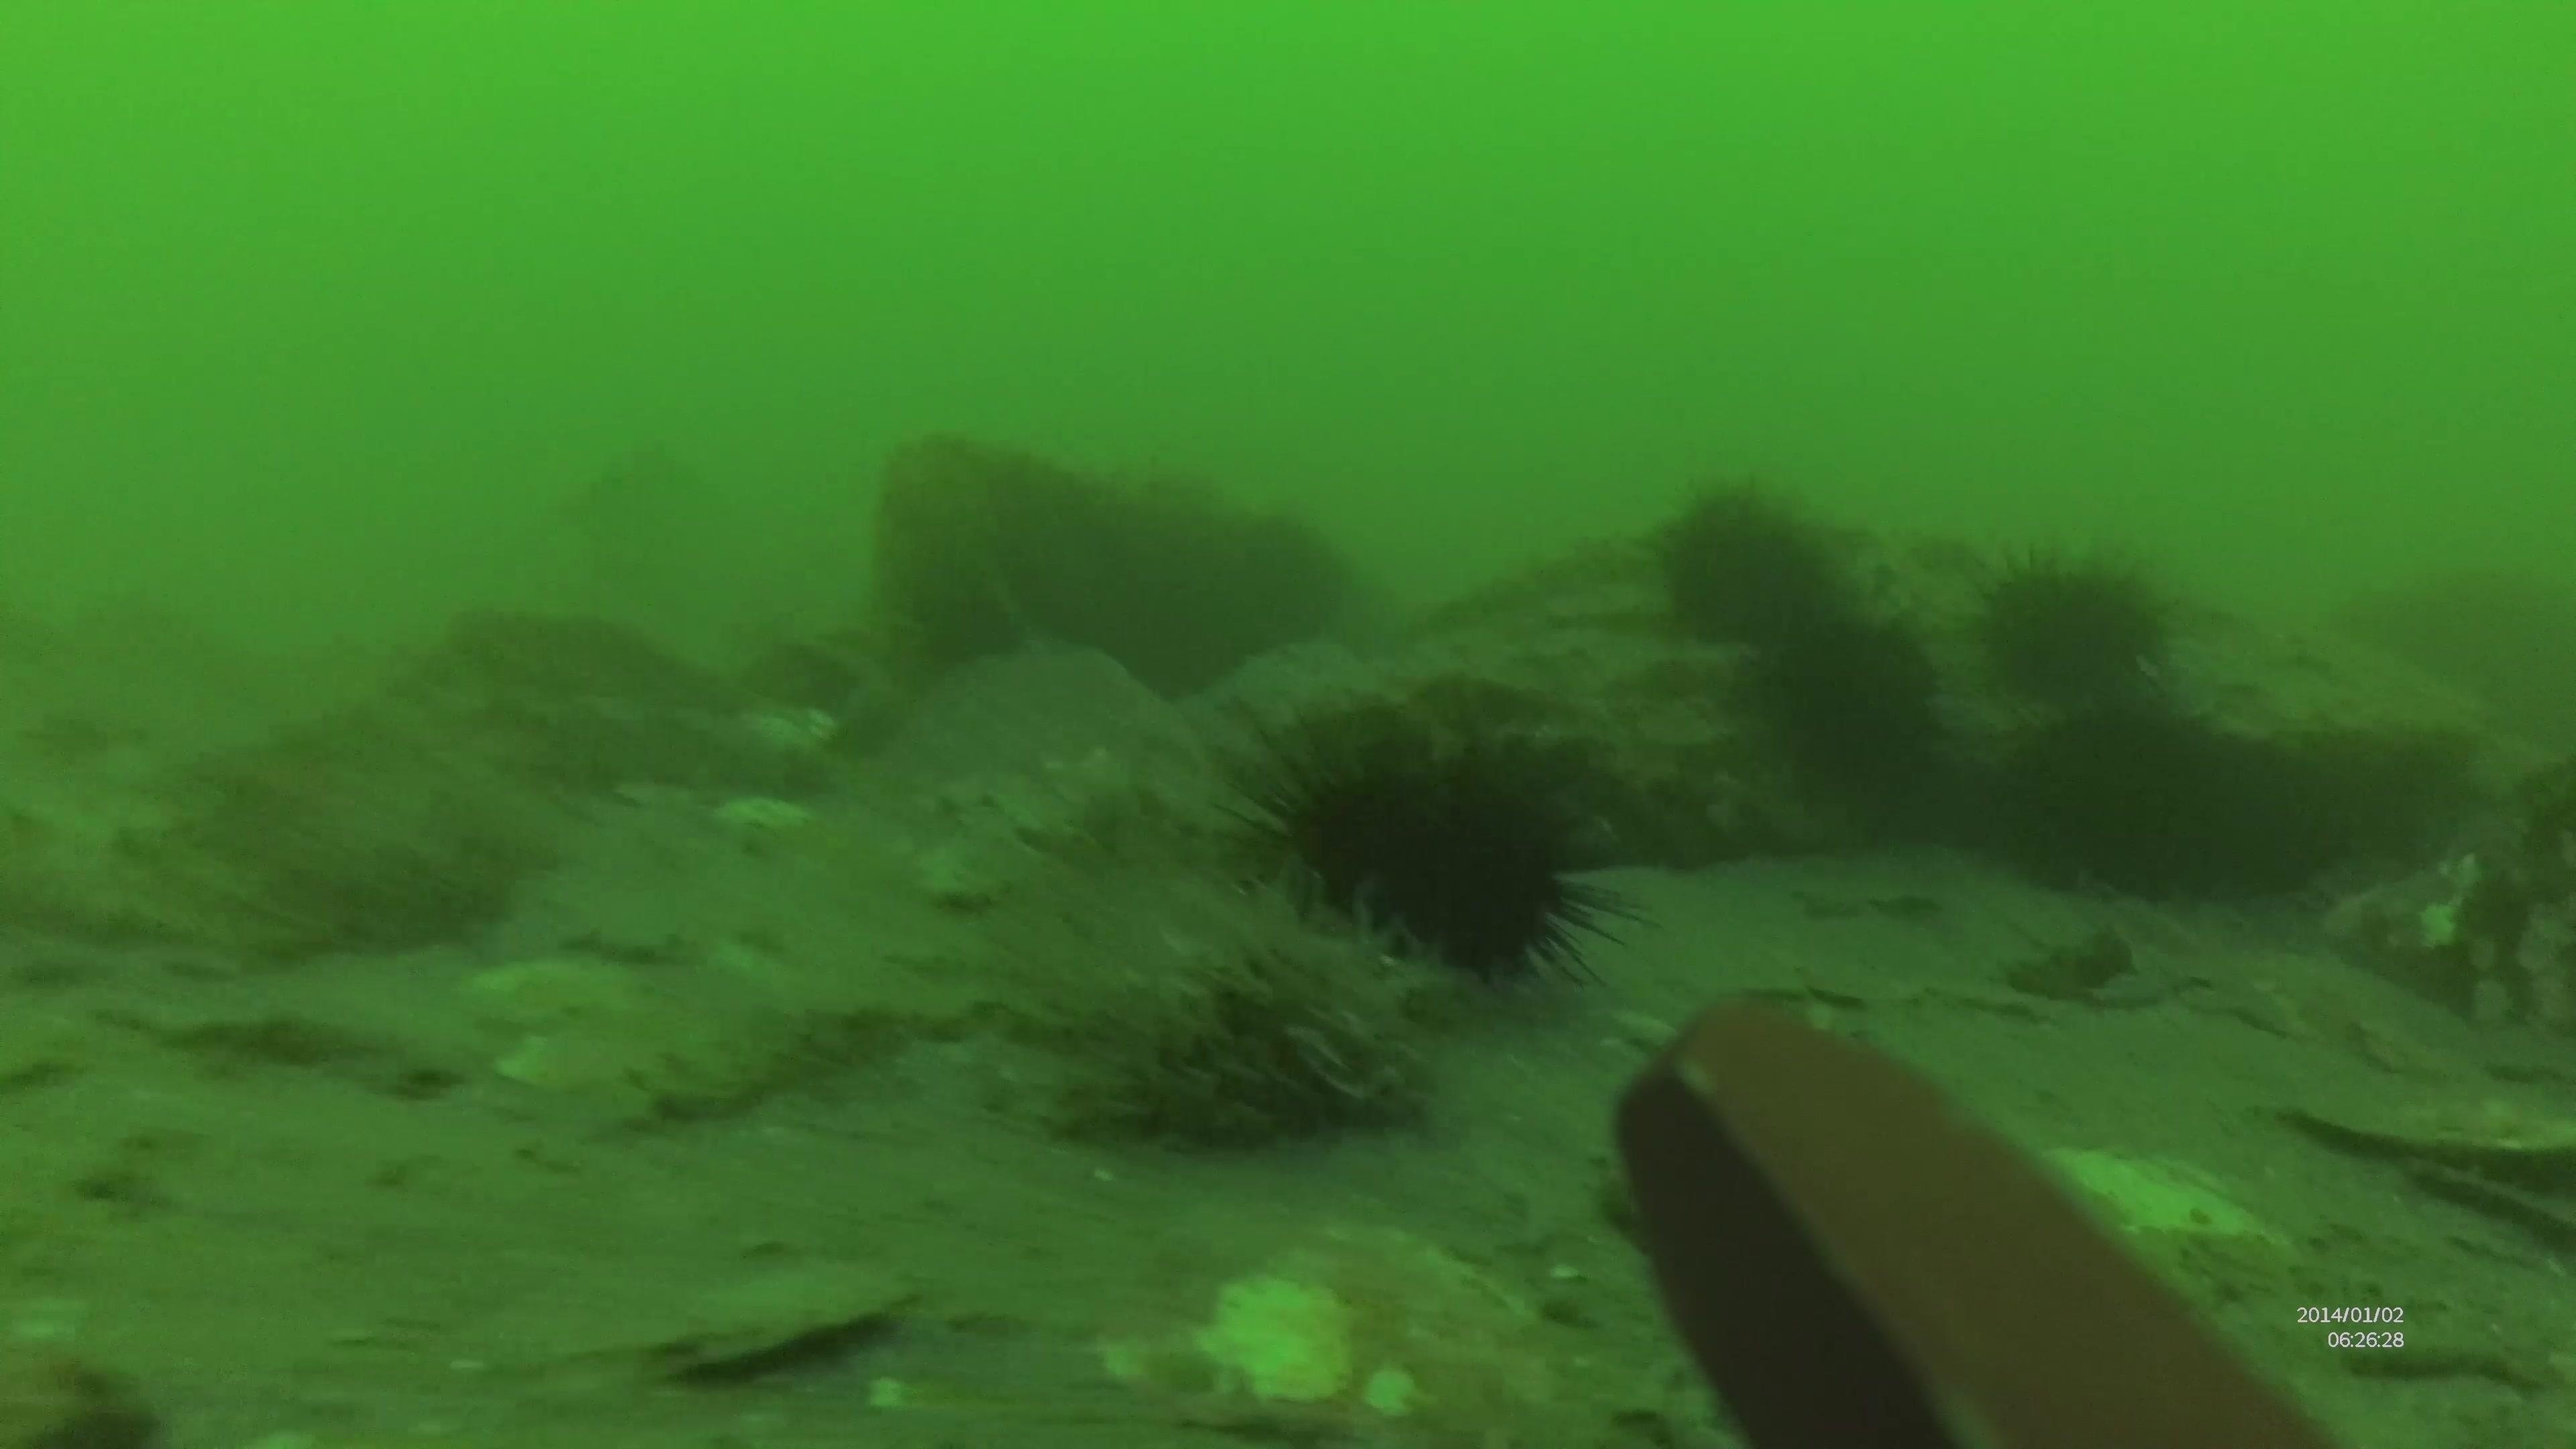echinus: (1217, 708, 1629, 993), (1750, 602, 1948, 798), (1966, 536, 2181, 715), (1644, 476, 1847, 655)
scallop: (642, 1254, 922, 1391)
